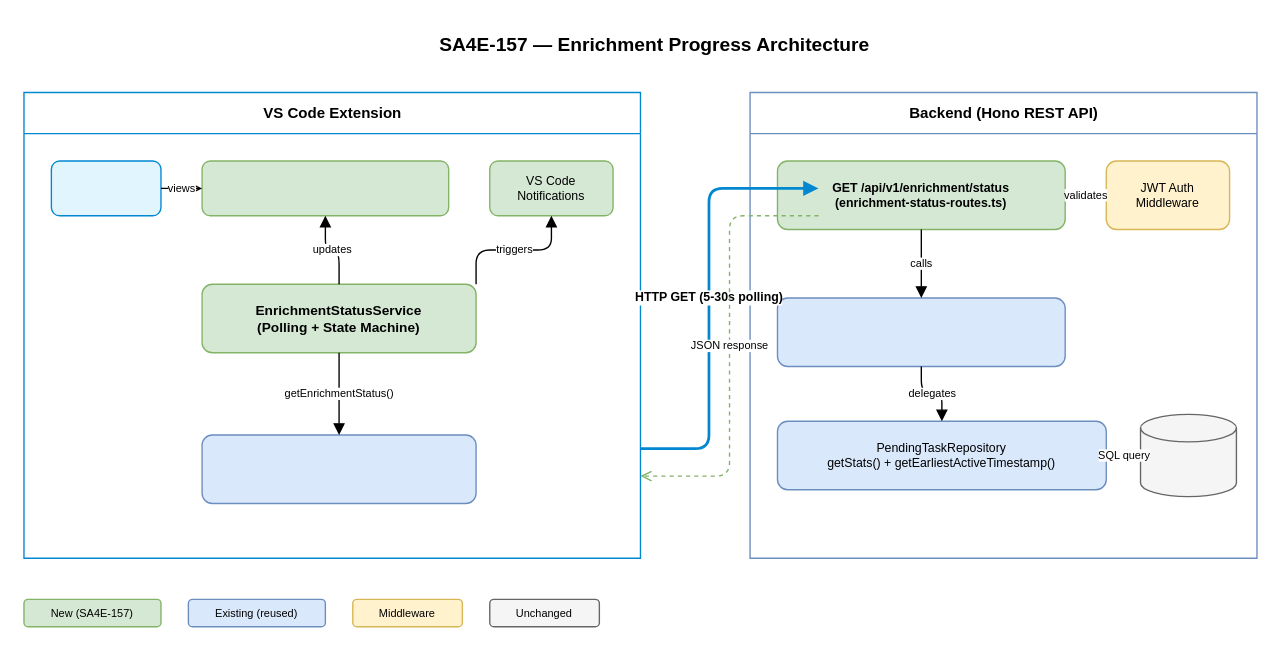
The diagram is 1281 pixels wide and 651 high, and some of its shapes have lost their labels. Here are the shapes that lost their labels. From the top down, the centre of each, then its label:
At point (105, 188): "Developer".
At point (325, 188): "StatusBarItem $(sync~spin) Enriching: 150/2999".
At point (920, 331): "TaskWorker getStats() + getProgress()".
At point (338, 468): "IndexerHttpClient + httpGetJson() [new]".
At point (1187, 455): "SQLite pending_tasks".
